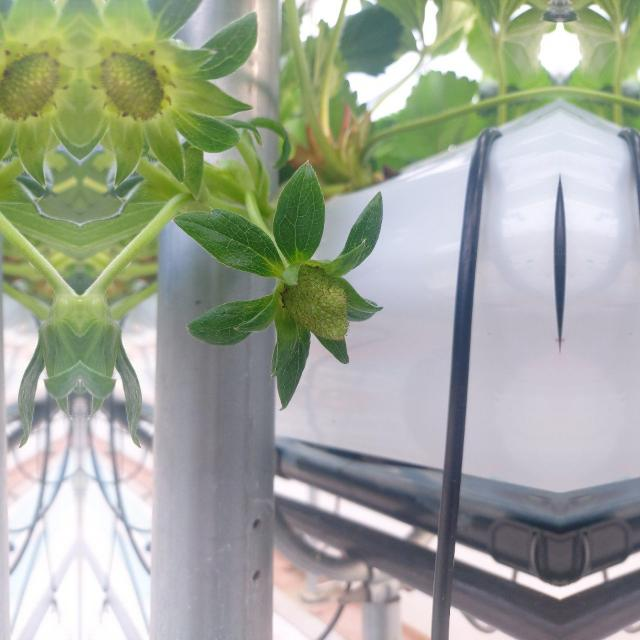Health_25: (275, 260, 351, 340), (95, 49, 172, 123), (0, 49, 65, 123)
